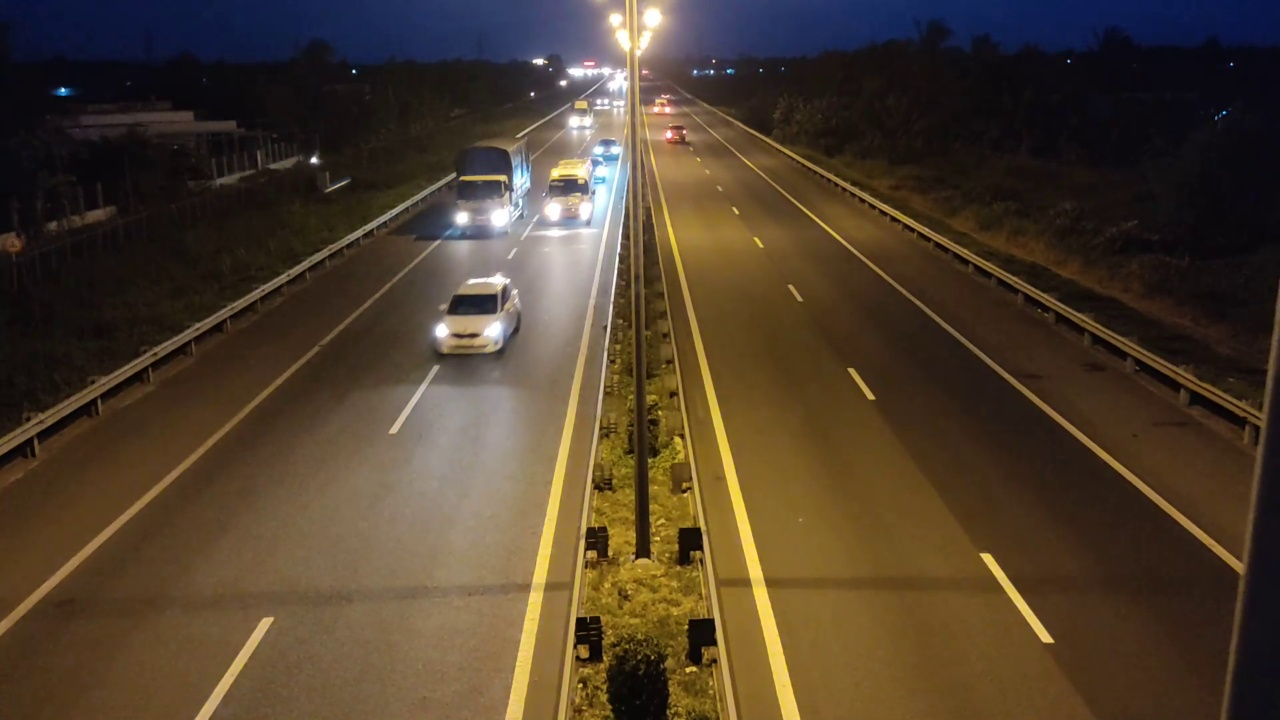bus: (542, 153, 598, 231)
car: (429, 273, 523, 356), (664, 124, 689, 145)
truck: (451, 134, 533, 237)
